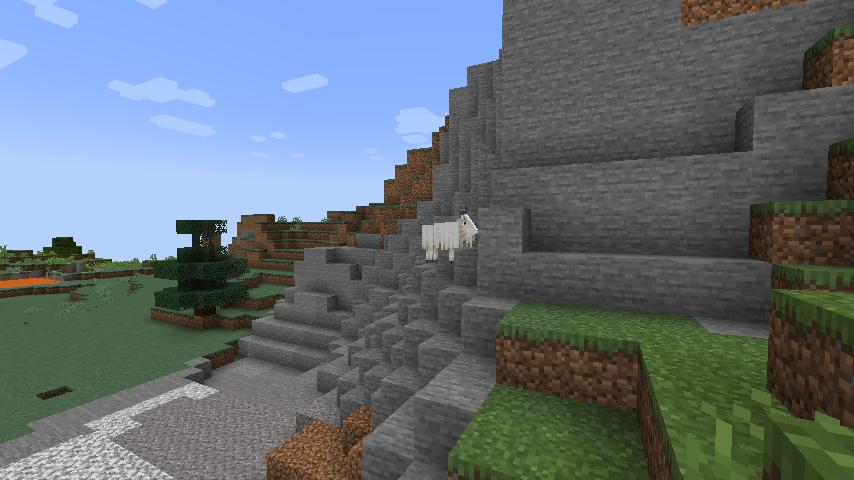goat: (420, 212, 481, 264)
